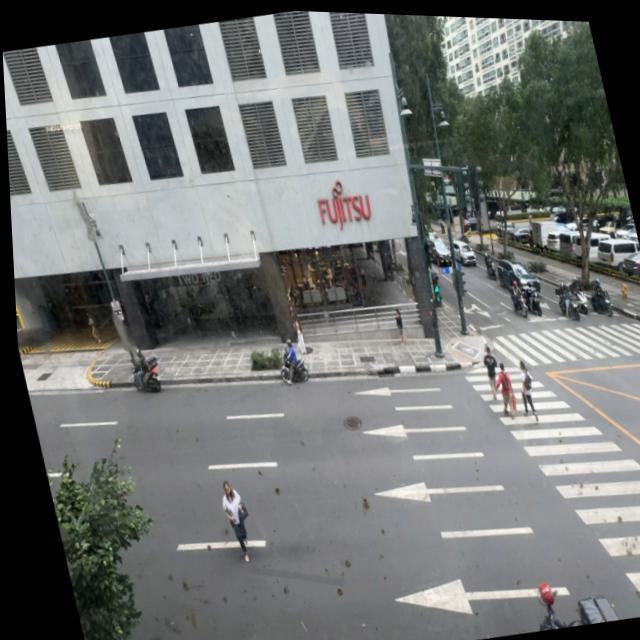jaywalking: (217, 476, 256, 562)
